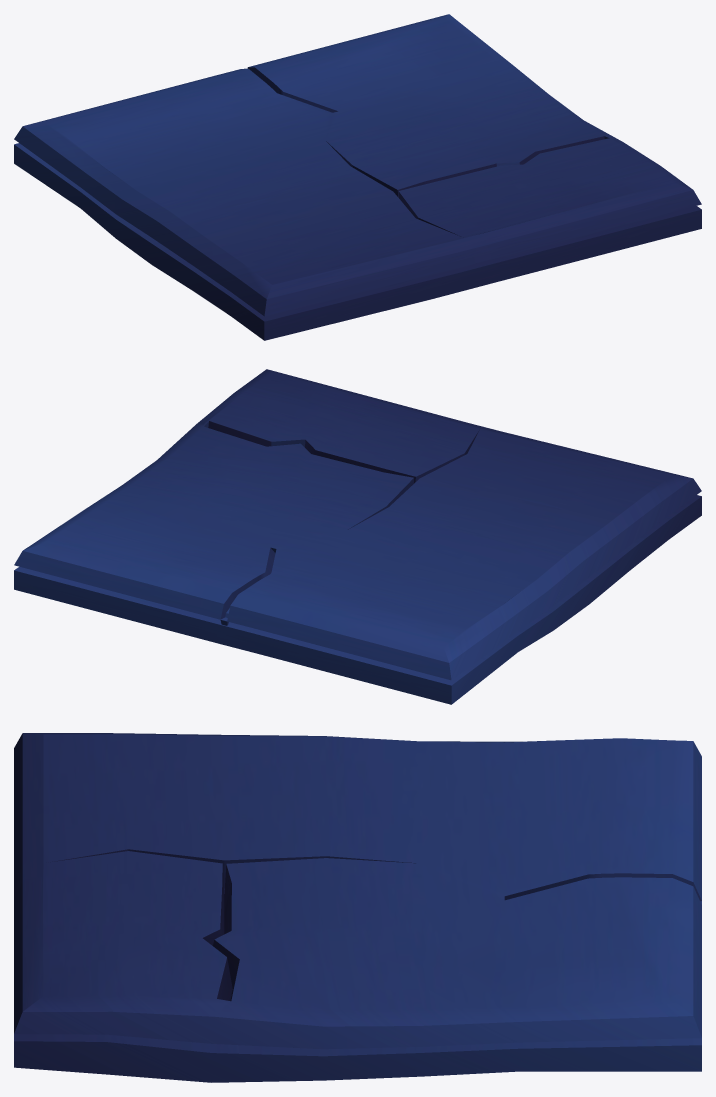
File: SM_Botten.fbx
3 views of the same model, one above another, from view 1: azimuth 30°, elevation 25°; view 2: azimuth 150°, elevation 25°; view 3: azimuth 270°, elevation 25° (orthographic). The views are drawn at different scales.
Parts seen in each view (by area): view 1: pCube176; view 2: pCube176; view 3: pCube176.
Boxes of the visible parts, x1,y1,x2,y2 form: pCube176: (14, 14, 701, 340); pCube176: (14, 369, 701, 704); pCube176: (14, 733, 701, 1082).
Size of the model in its own units: 111 by 13.39 by 110.
